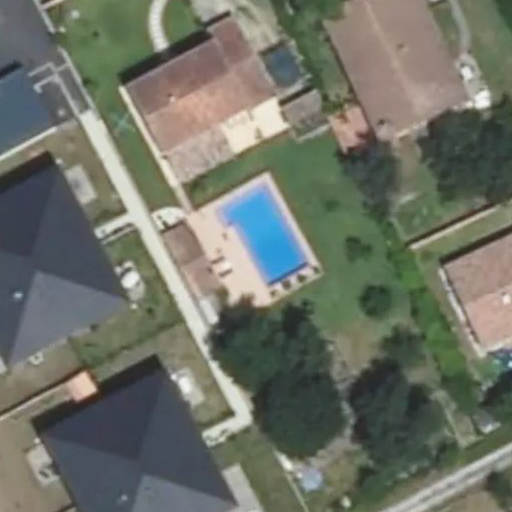pool: (209, 218, 302, 269)
